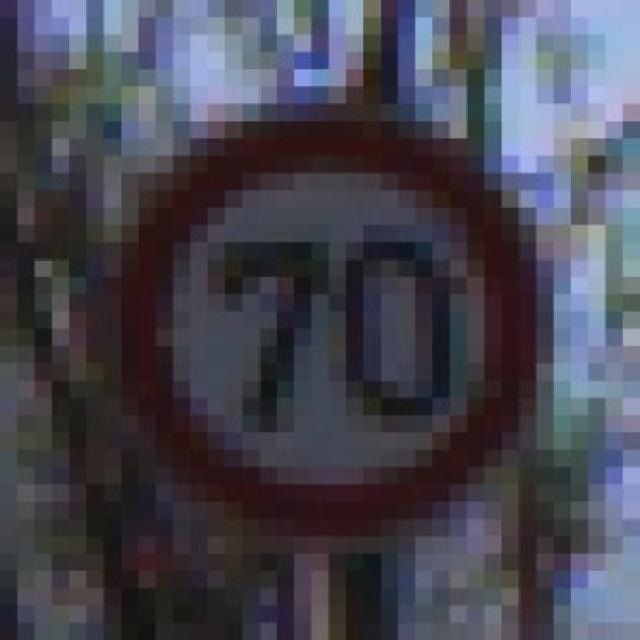forb_speed_over_70: (125, 111, 542, 534)
